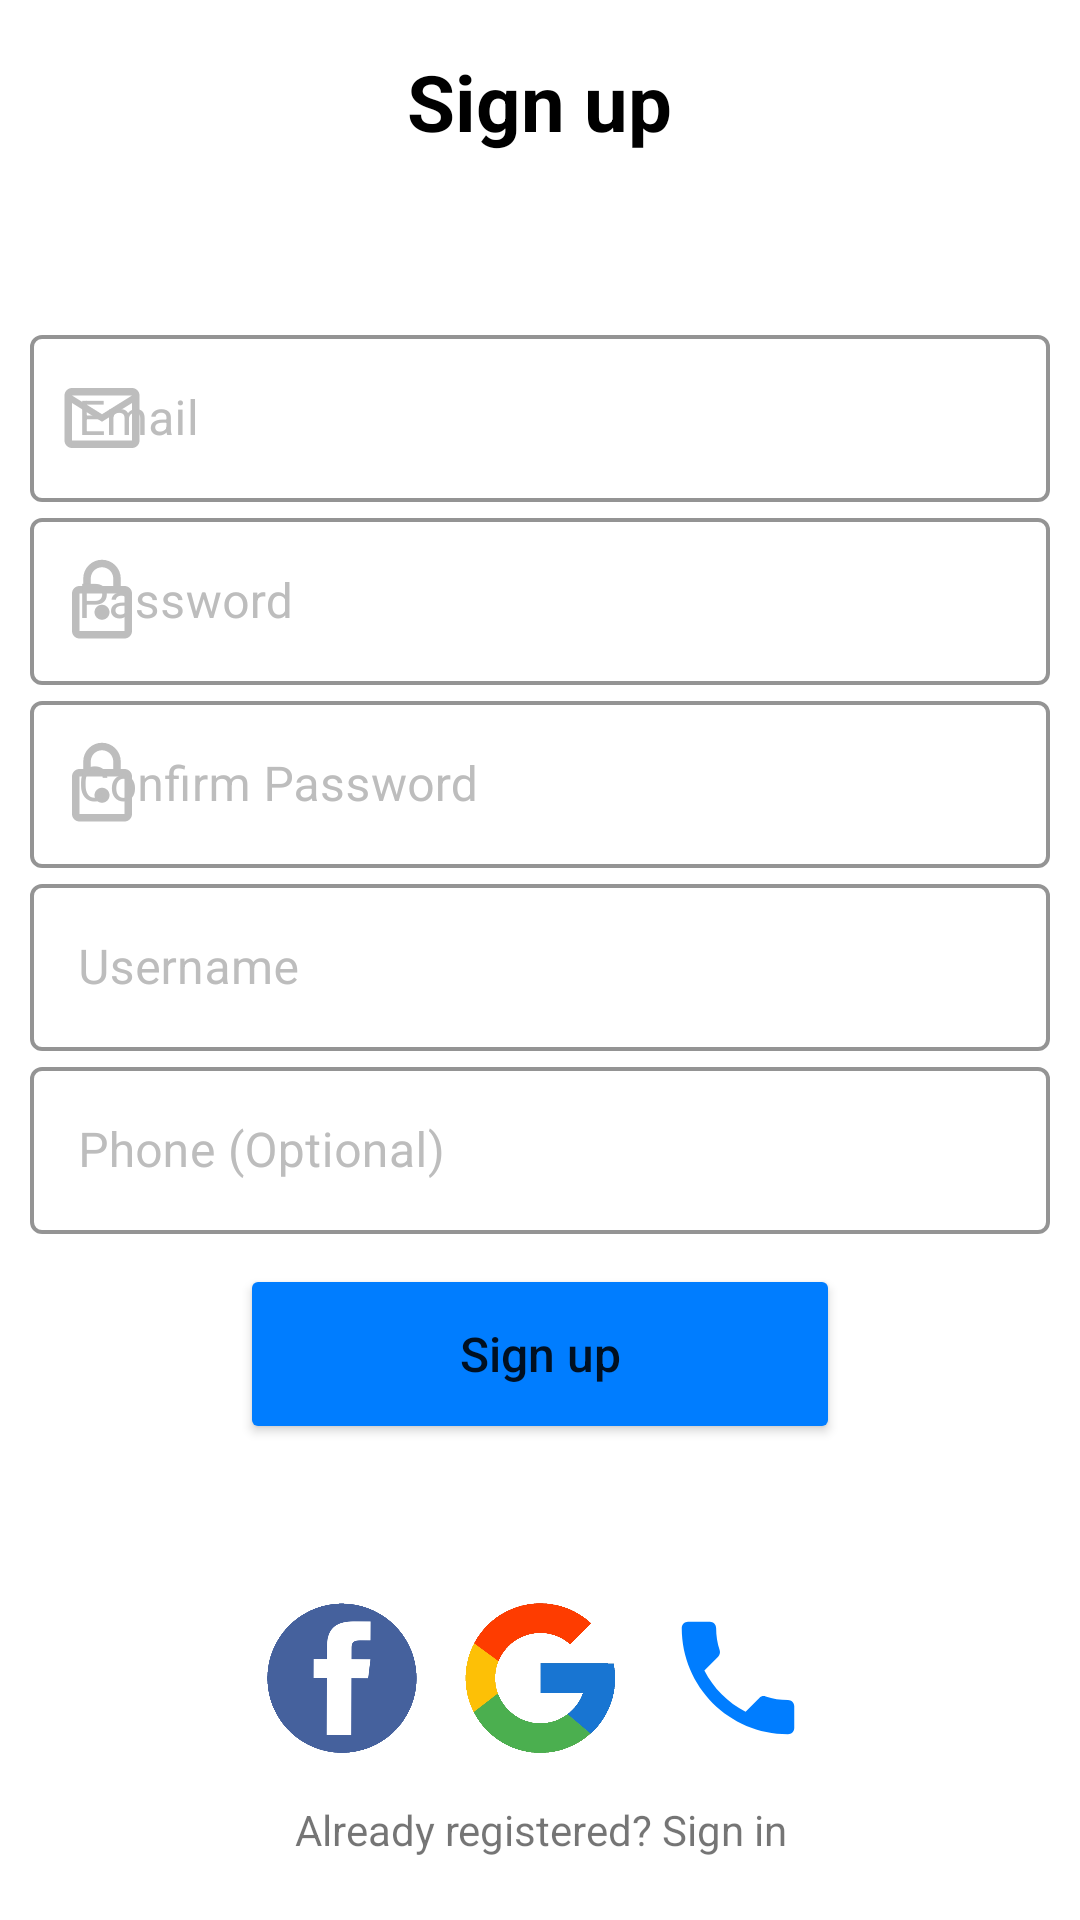

Icon click points for this 1080 x 1920 phone screenshot, format (x,y):
phone: (738,1678)
